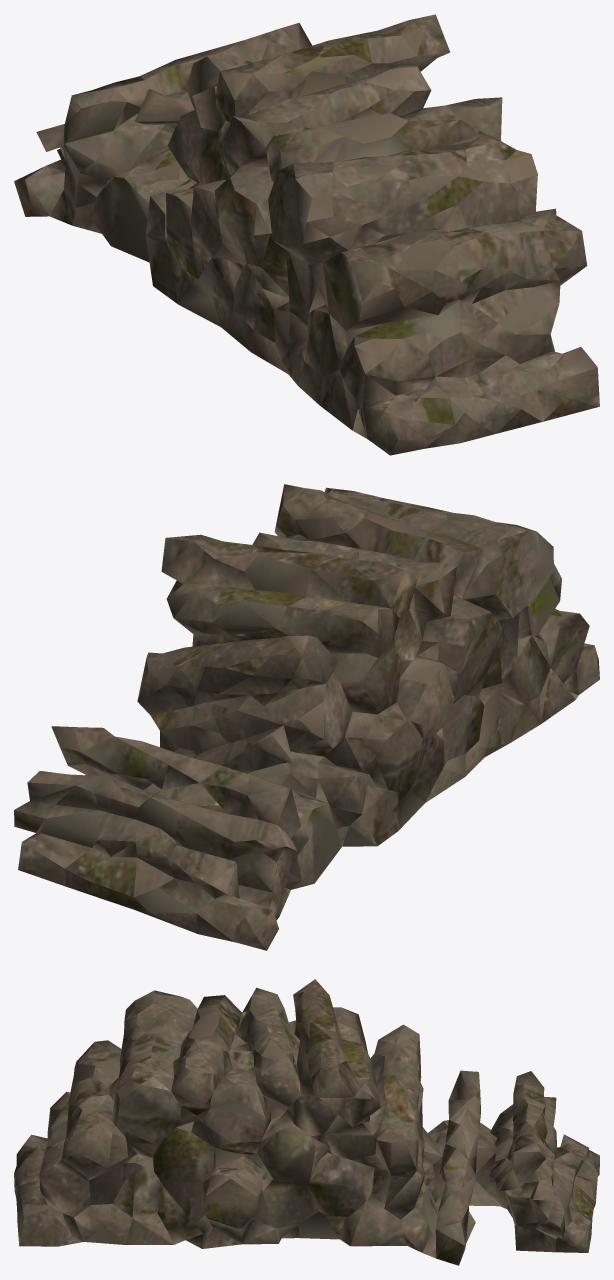
File: Hurdels_0.fbx
The picture shows the model from 3 angles, top to bottom: view 1: azimuth 30°, elevation 25°; view 2: azimuth 150°, elevation 25°; view 3: azimuth 270°, elevation 25°; orthographic projection. The views are drawn at different scales.
Visible parts, largest first — view 1: woodpile_LOD003:woodpile_LOD003_0; view 2: woodpile_LOD003:woodpile_LOD003_0; view 3: woodpile_LOD003:woodpile_LOD003_0.
Part boxes in pixels (box(x1,y1,x2,y2)): woodpile_LOD003:woodpile_LOD003_0: box(14, 14, 599, 455); woodpile_LOD003:woodpile_LOD003_0: box(14, 484, 599, 950); woodpile_LOD003:woodpile_LOD003_0: box(14, 979, 599, 1265).
Bounding box in the file's own units: 0.7132 × 0.6195 × 1.59.
Materials: 1 (1 with a texture image).
